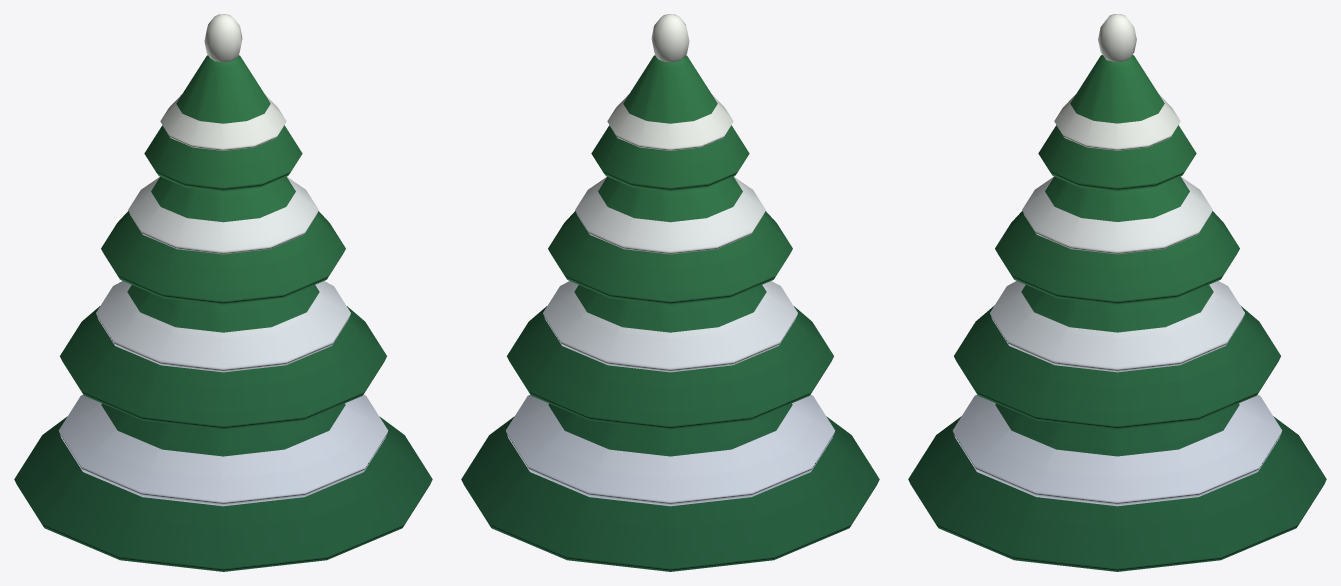
Rendered from snowPine.glb.
3 views of the same model, side by side, from view 1: azimuth 30°, elevation 25°; view 2: azimuth 150°, elevation 25°; view 3: azimuth 270°, elevation 25° (orthographic).
Parts seen in each view (by area): view 1: Pine tier, Pine tier.001, Snow cap, Pine tier.002, Snow cap.001, Pine tier.003, Snow cap.002, Snow cap.003, Snow tip; view 2: Pine tier, Pine tier.001, Snow cap, Pine tier.002, Snow cap.001, Pine tier.003, Snow cap.002, Snow cap.003, Snow tip; view 3: Pine tier, Pine tier.001, Snow cap, Pine tier.002, Snow cap.001, Pine tier.003, Snow cap.002, Snow cap.003, Snow tip.
Boxes of the visible parts, bbox=[...] form: Pine tier: bbox=[14, 403, 432, 571]; Pine tier.001: bbox=[60, 285, 386, 429]; Snow cap: bbox=[58, 394, 388, 506]; Pine tier.002: bbox=[101, 177, 345, 304]; Snow cap.001: bbox=[96, 281, 350, 372]; Pine tier.003: bbox=[144, 55, 302, 191]; Snow cap.002: bbox=[128, 177, 318, 254]; Snow cap.003: bbox=[160, 94, 286, 150]; Snow tip: bbox=[204, 14, 242, 62]; Pine tier: bbox=[461, 403, 879, 571]; Pine tier.001: bbox=[507, 285, 833, 429]; Snow cap: bbox=[505, 394, 835, 506]; Pine tier.002: bbox=[548, 177, 792, 304]; Snow cap.001: bbox=[543, 281, 797, 372]; Pine tier.003: bbox=[591, 55, 749, 191]; Snow cap.002: bbox=[575, 177, 765, 254]; Snow cap.003: bbox=[607, 94, 733, 150]; Snow tip: bbox=[651, 14, 689, 62]; Pine tier: bbox=[908, 403, 1326, 571]; Pine tier.001: bbox=[954, 285, 1280, 429]; Snow cap: bbox=[952, 394, 1282, 506]; Pine tier.002: bbox=[995, 176, 1239, 304]; Snow cap.001: bbox=[990, 281, 1244, 372]; Pine tier.003: bbox=[1038, 55, 1196, 191]; Snow cap.002: bbox=[1022, 176, 1212, 254]; Snow cap.003: bbox=[1054, 94, 1180, 150]; Snow tip: bbox=[1098, 14, 1136, 61].
Bounding box in the file's own units: 3.01 × 4.18 × 3.01.
3 materials, 3 textured.
